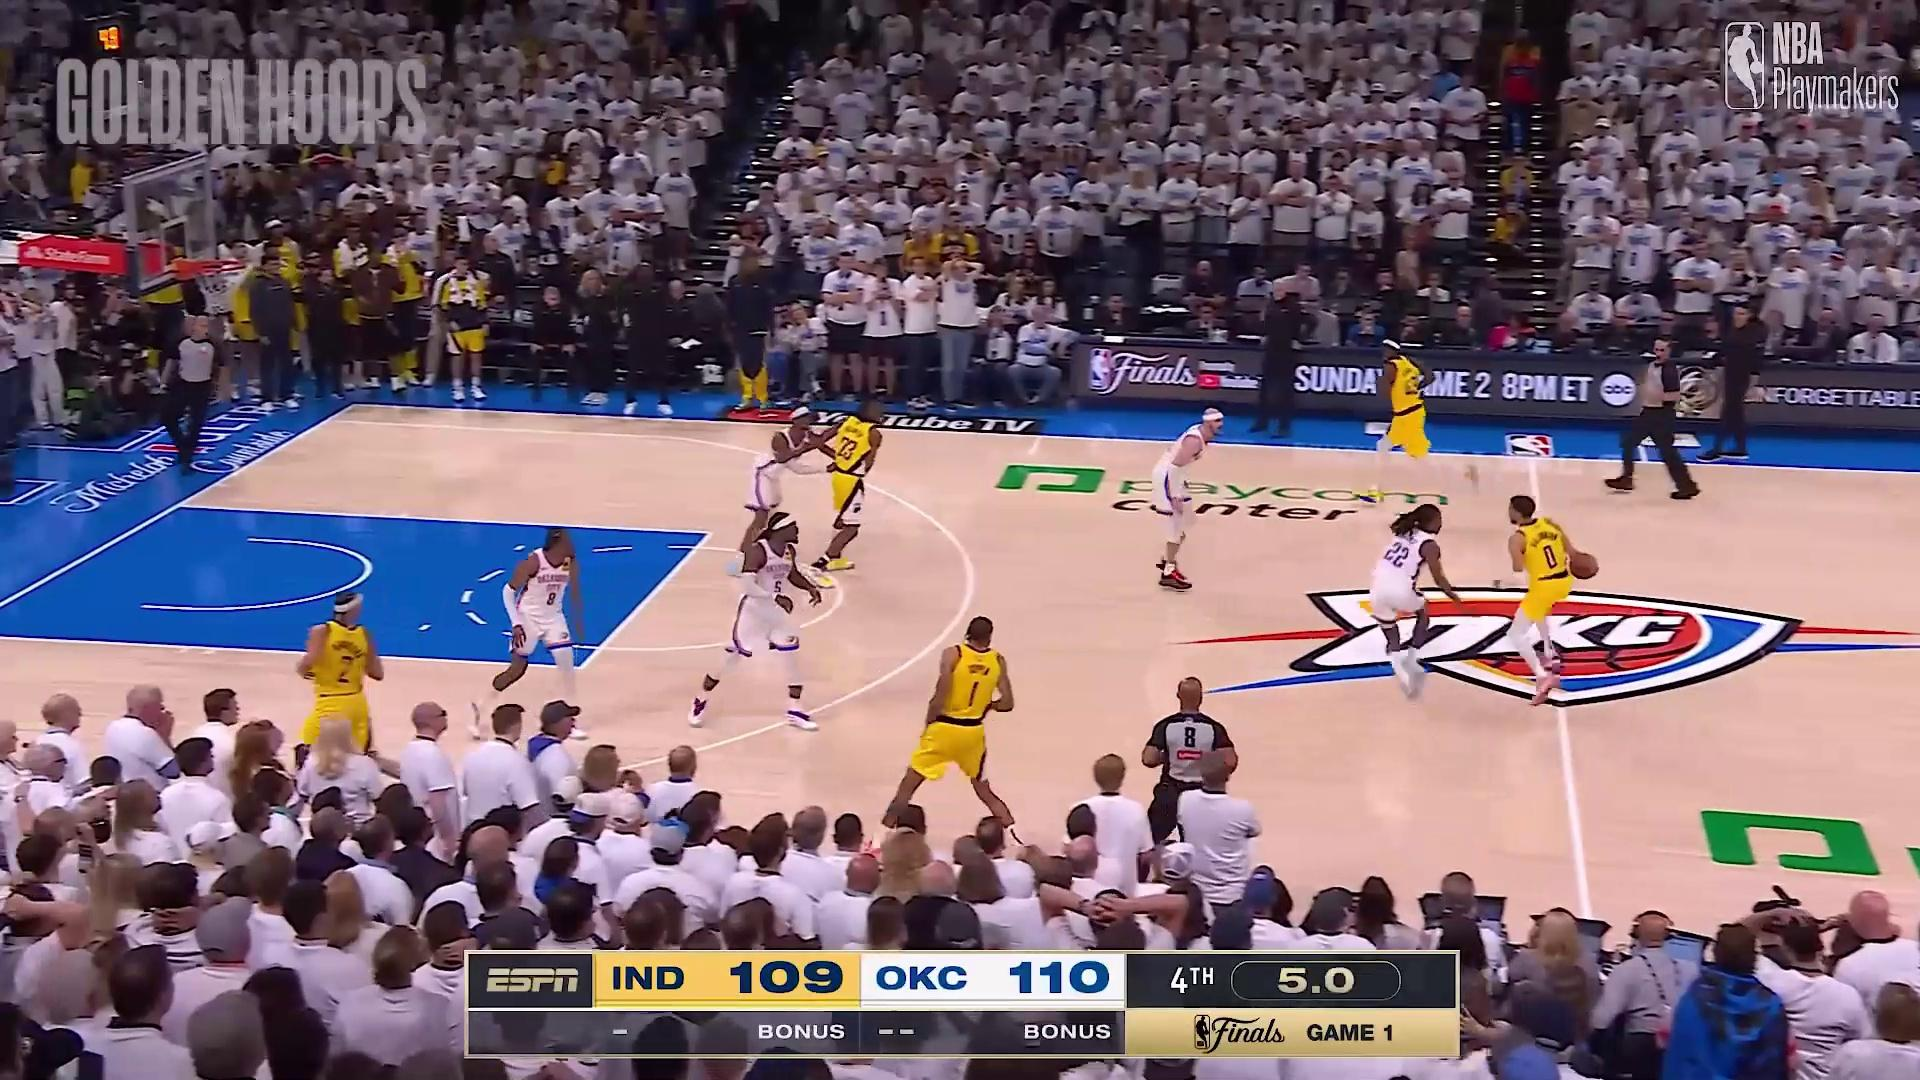ball: (1568, 554, 1600, 578)
hoop: (193, 252, 251, 324)
